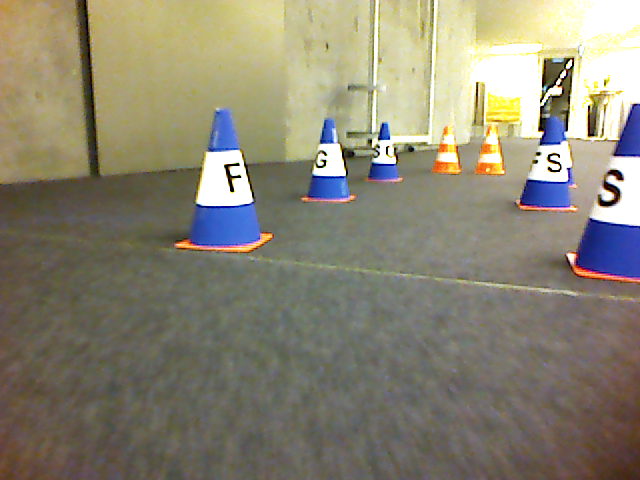bluecone: (171, 105, 274, 254), (566, 101, 640, 287), (516, 117, 579, 213), (302, 117, 356, 203), (365, 121, 405, 183)
orangeconesmall: (430, 126, 464, 175), (475, 125, 507, 175)
